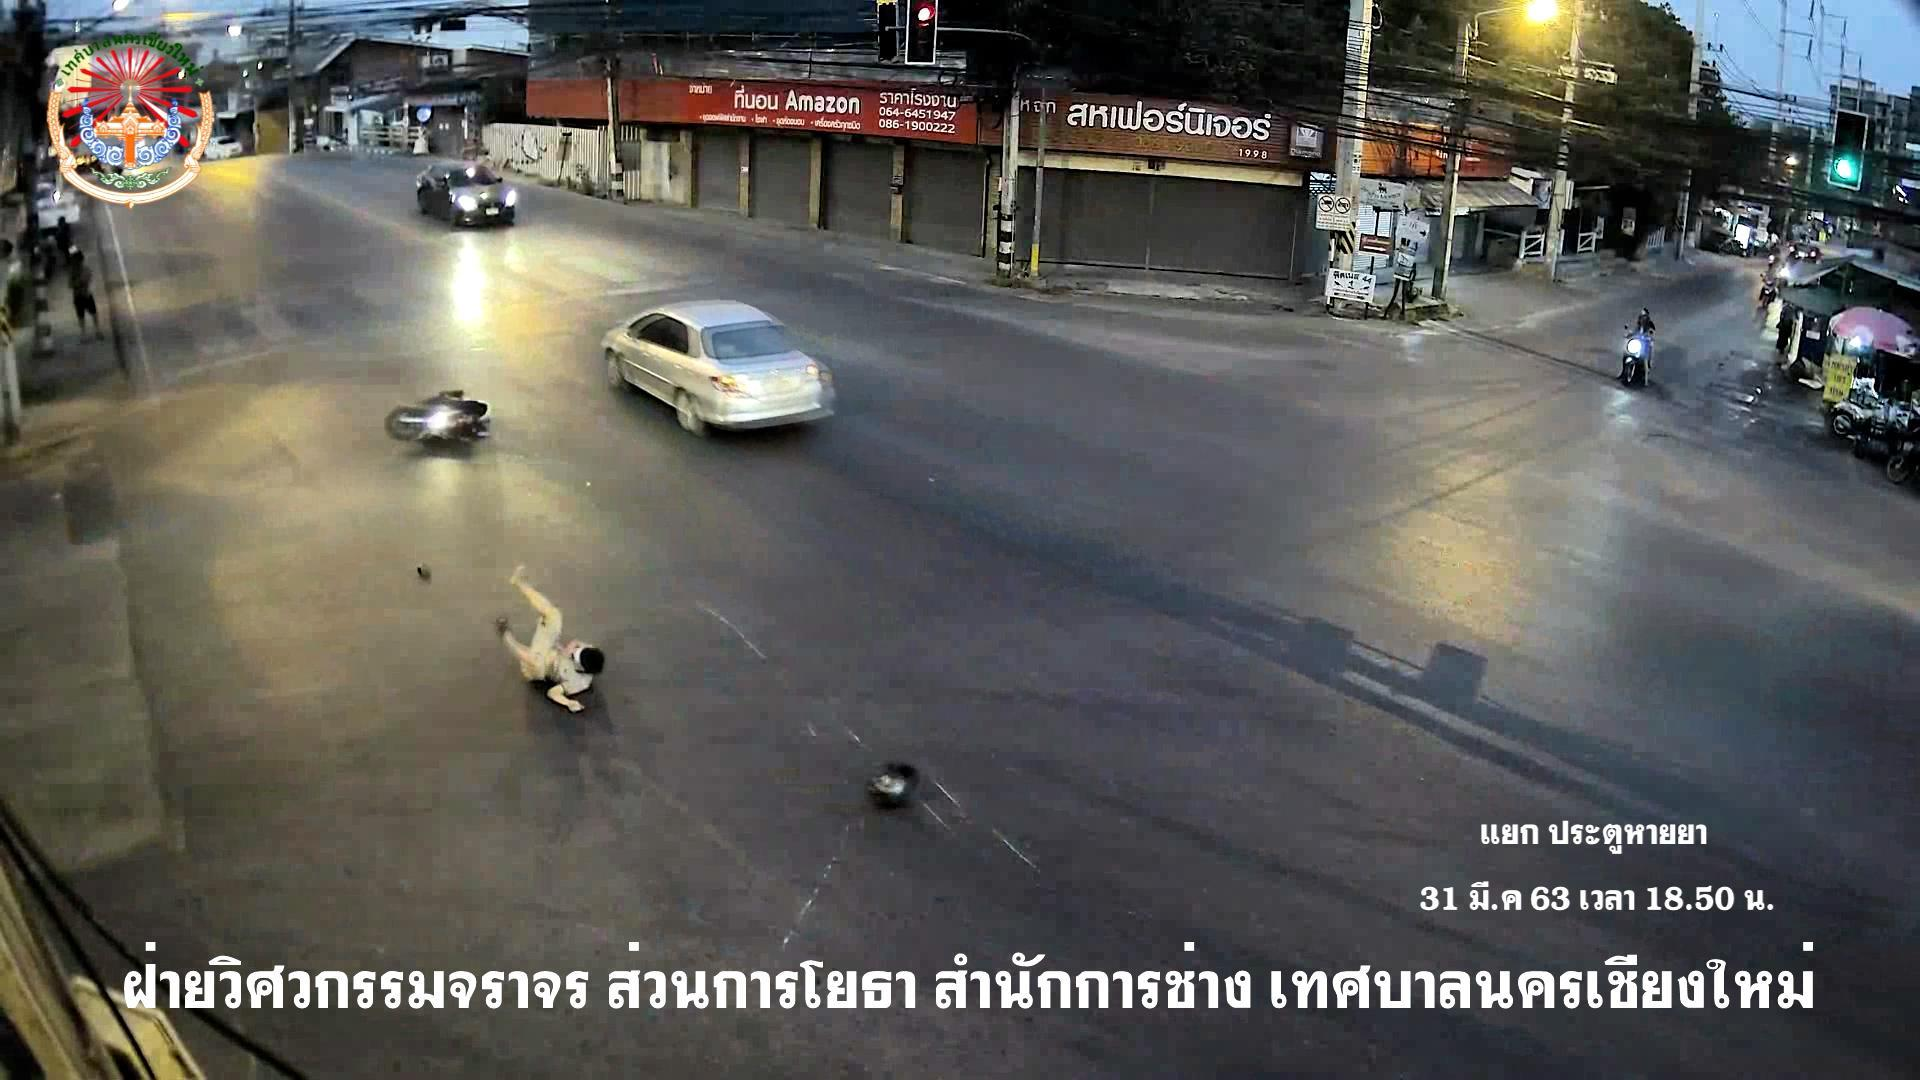accident: (496, 558, 621, 746)
